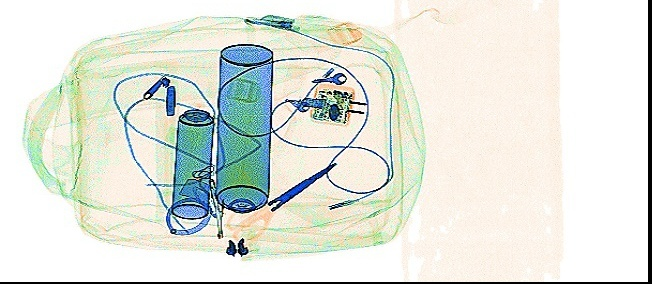handcuffs: (162, 160, 229, 240)
pressure: (212, 43, 273, 218), (169, 103, 214, 221)
scissors: (224, 157, 338, 246)
